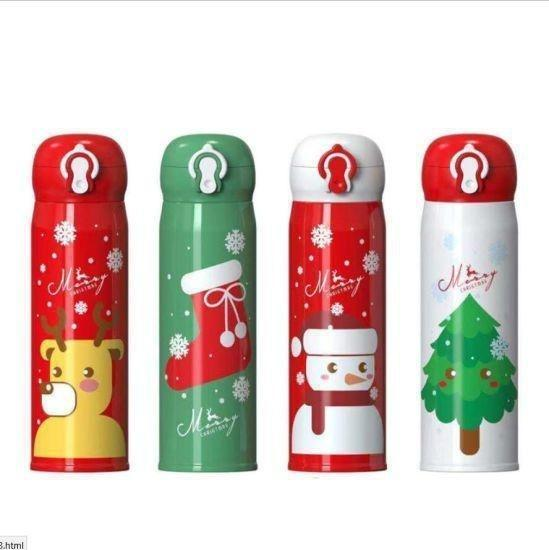gym bottle: (414, 131, 524, 475), (282, 131, 391, 475), (152, 131, 261, 475), (25, 131, 133, 476)
